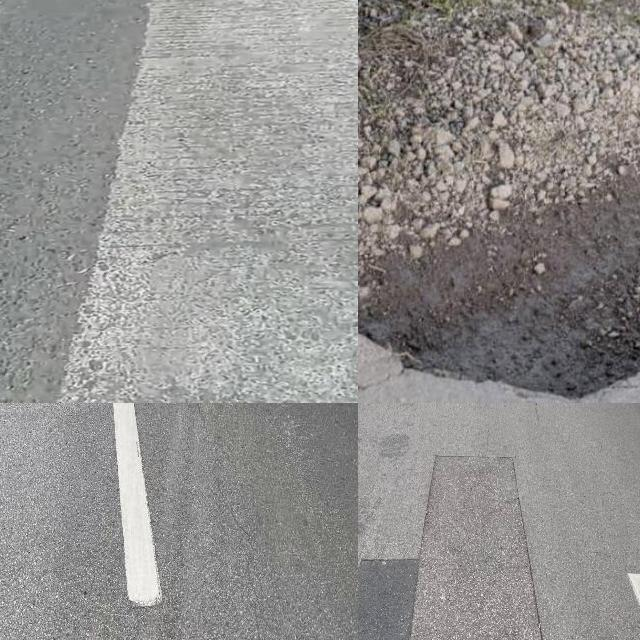Pinggir: (358, 138, 640, 403)
Sambungan: (47, 0, 358, 403), (358, 456, 544, 640)
